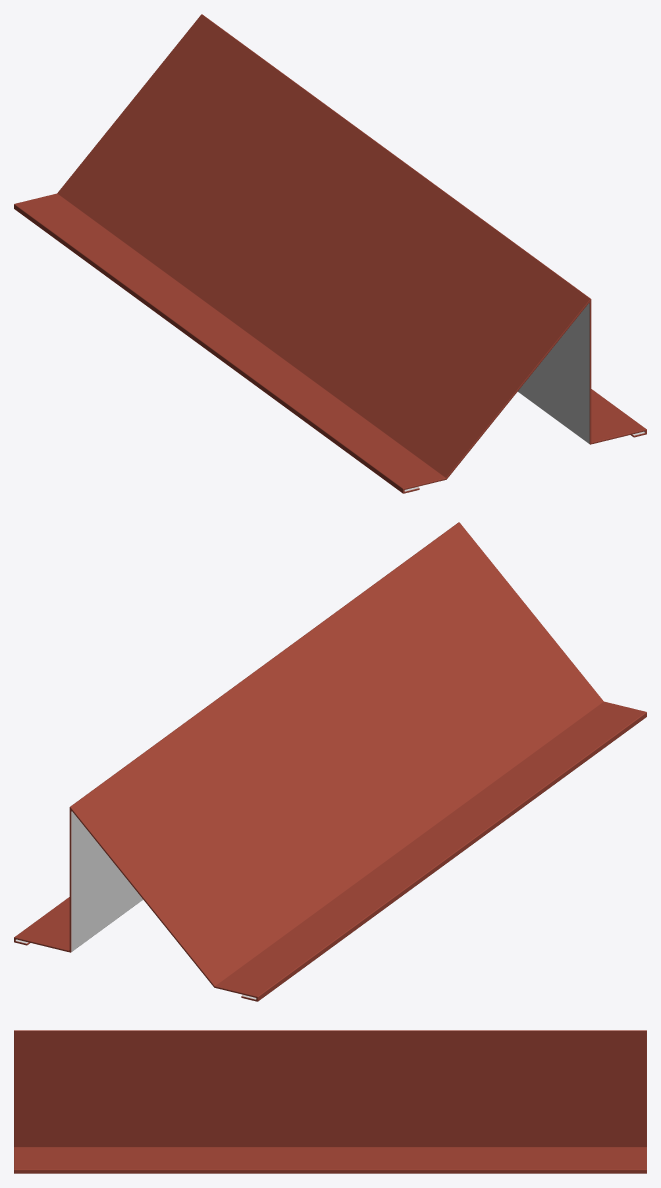
3 renders of one model, top to bottom at view 1: azimuth 30°, elevation 25°; view 2: azimuth 150°, elevation 25°; view 3: azimuth 270°, elevation 25°, orthographic. The views are drawn at different scales.
Parts seen in each view (by area): view 1: w1ll-k, w1ll-b; view 2: w1ll-k, w1ll-b; view 3: w1ll-k.
Boxes of the visible parts, x1,y1,x2,y2 form: w1ll-k: (14,14,646,493); w1ll-b: (404,303,645,491); w1ll-k: (14,522,646,1001); w1ll-b: (15,811,256,999); w1ll-k: (14,1030,646,1173).
Size of the model in its own units: 725 by 424 by 2002.
